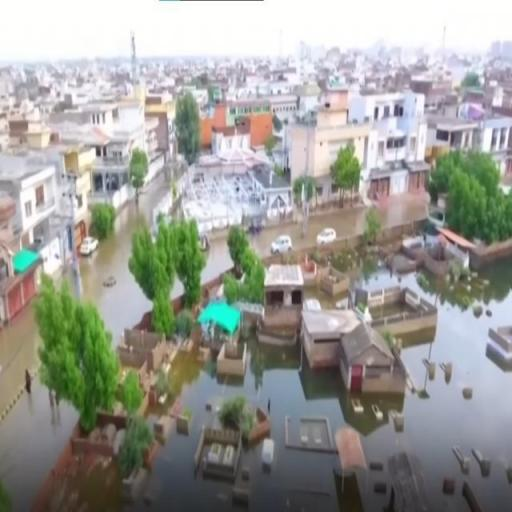flood: (122, 257, 512, 512), (79, 176, 167, 346), (0, 377, 77, 512), (252, 206, 369, 257), (0, 305, 38, 419), (378, 193, 429, 229), (202, 230, 234, 283), (304, 286, 349, 309), (493, 151, 512, 192)
house: (319, 306, 401, 394), (3, 152, 60, 260), (362, 92, 418, 160), (263, 259, 304, 340), (385, 448, 434, 512), (2, 259, 42, 331), (70, 124, 118, 184), (290, 112, 337, 170), (198, 424, 240, 482), (200, 300, 244, 354), (215, 102, 276, 140), (333, 420, 368, 483)
